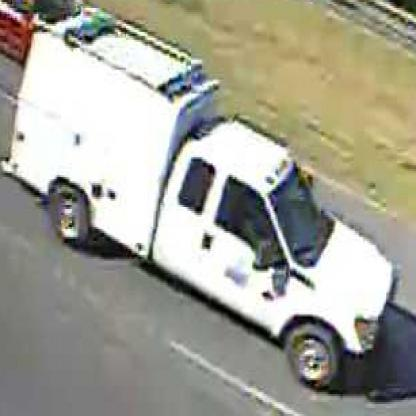truck: (9, 15, 400, 383)
